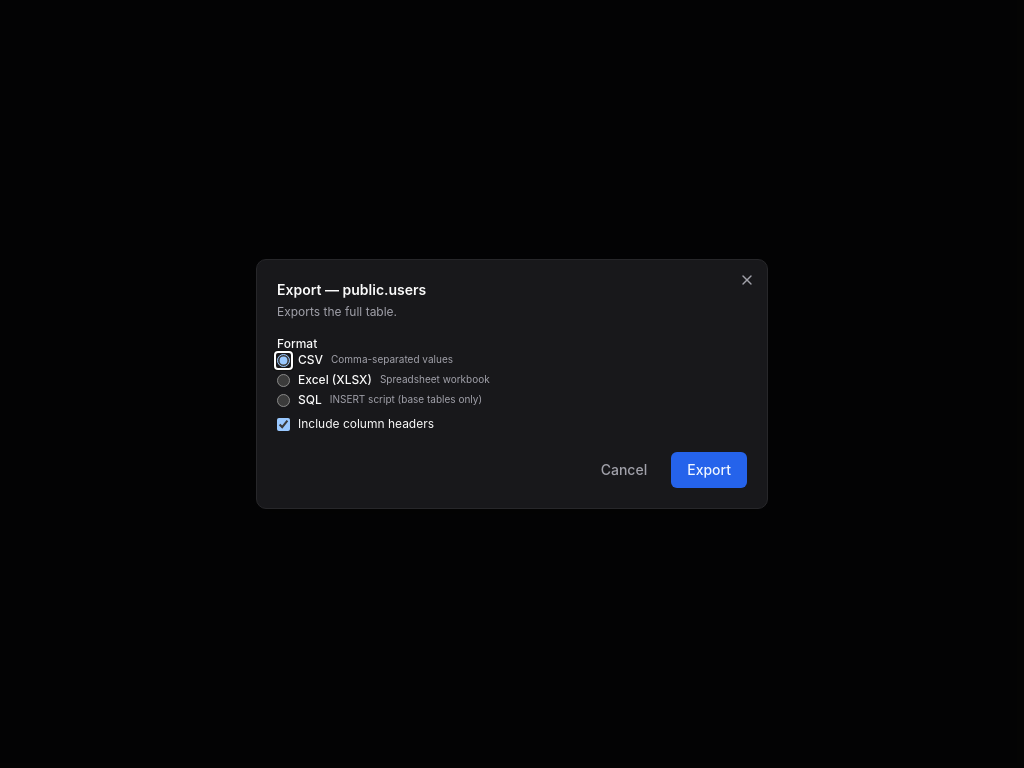
Test case: ExportDialog (PRF-02/T14) › surfaces a backend export error and keeps the dialog open
The image size is (1024, 768).
Click the button with test id "export-submit" at (709,470), box [671, 452, 747, 488]
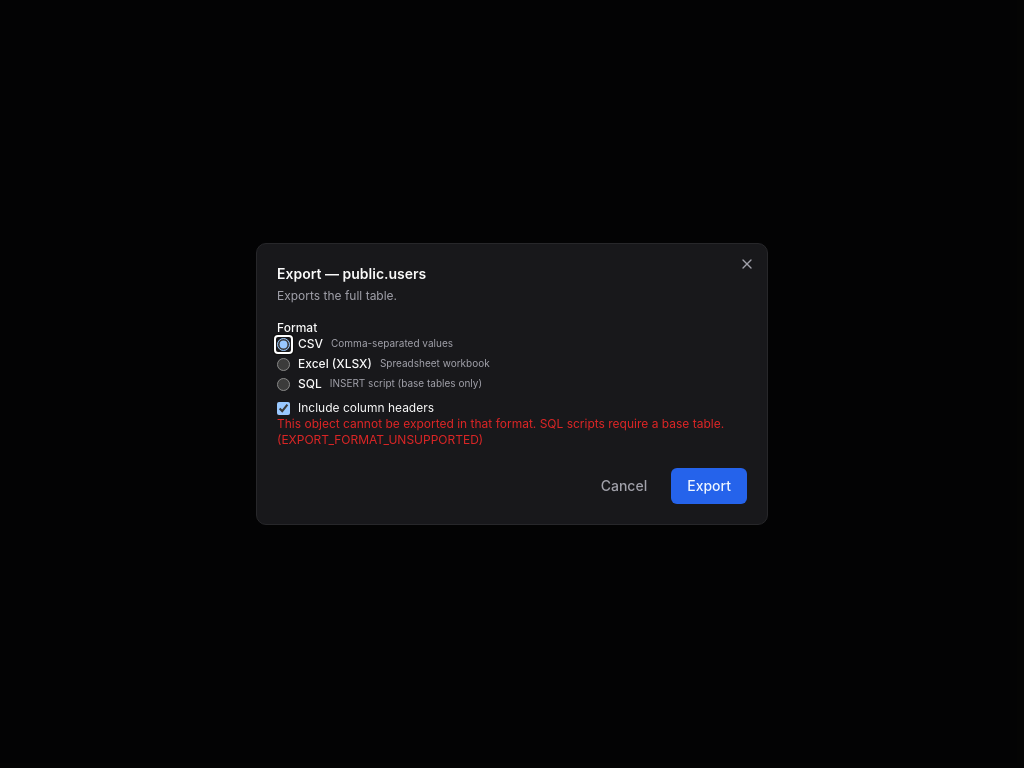
Result: the message with test id "export-error" shows "EXPORT_FORMAT_UNSUPPORTED" at [277, 416, 724, 447]
